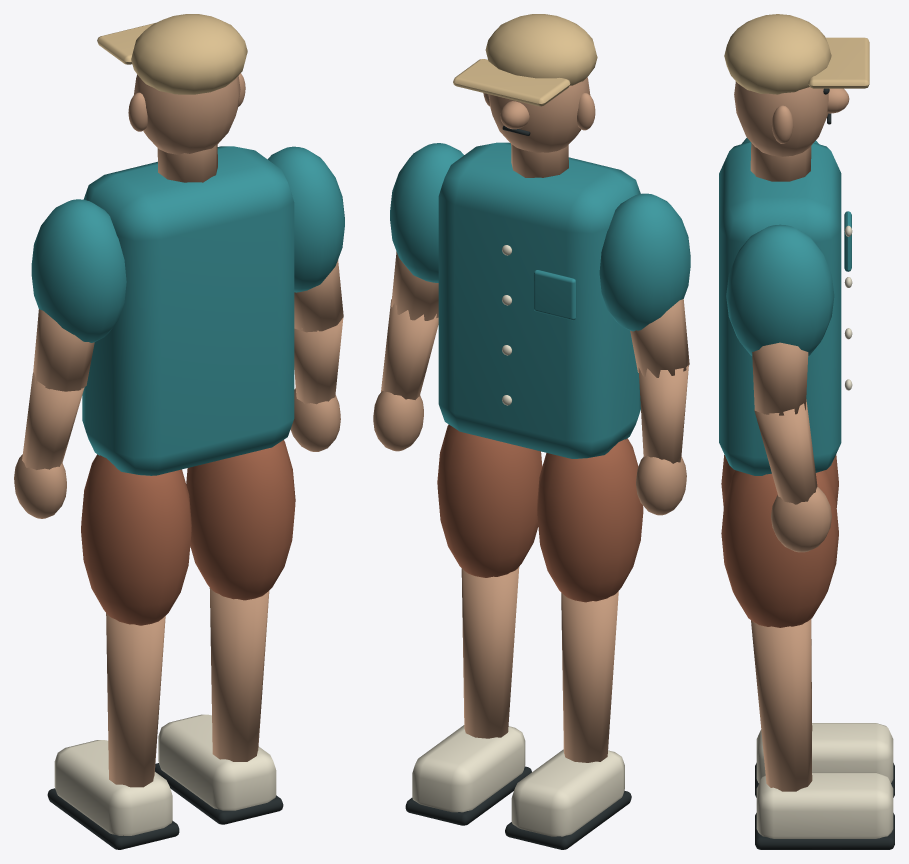
Rendered from pacific-visitor.glb.
The picture shows the model from 3 angles, left to right: view 1: azimuth 30°, elevation 25°; view 2: azimuth 150°, elevation 25°; view 3: azimuth 270°, elevation 25°; orthographic projection. The views are drawn at different scales.
Visible parts, largest first — view 1: LifeRoot_Visitor coastal linen, LegFrontL_Visitor rust shorts, LegFrontR_Visitor rust shorts, ArmL_Visitor coastal linen, LegFrontL_Visitor skin, LegFrontR_Visitor skin, Head_Visitor straw cap, LegFrontR_Visitor cream footwear, LegFrontL_Visitor cream footwear, ArmR_Visitor coastal linen, ForearmL_Visitor skin, Head_Visitor skin (+6 smaller); view 2: LifeRoot_Visitor coastal linen, LegFrontL_Visitor rust shorts, LegFrontR_Visitor rust shorts, ArmL_Visitor coastal linen, Head_Visitor straw cap, LegFrontL_Visitor skin, LegFrontR_Visitor skin, LegFrontR_Visitor cream footwear, LegFrontL_Visitor cream footwear, ForearmL_Visitor skin, ForearmR_Visitor skin, ArmR_Visitor coastal linen (+6 smaller); view 3: LifeRoot_Visitor coastal linen, LegFrontR_Visitor rust shorts, ArmR_Visitor coastal linen, Head_Visitor straw cap, LegFrontR_Visitor skin, LegFrontR_Visitor cream footwear, ForearmR_Visitor skin, Head_Visitor skin, LegFrontL_Visitor cream footwear, ArmR_Visitor skin, LegFrontR_Visitor dark trim, LifeRoot_Visitor skin (+1 smaller).
Boxes of the visible parts, x1,y1,x2,y2 form: LifeRoot_Visitor coastal linen: (82,146,294,475); LegFrontL_Visitor rust shorts: (81,454,191,625); LegFrontR_Visitor rust shorts: (186,440,295,600); ArmL_Visitor coastal linen: (31,199,126,342); LegFrontL_Visitor skin: (106,613,165,787); LegFrontR_Visitor skin: (209,587,269,761); Head_Visitor straw cap: (97,14,247,94); LegFrontR_Visitor cream footwear: (158,714,276,810); LegFrontL_Visitor cream footwear: (54,740,172,835); ArmR_Visitor coastal linen: (267,146,344,292); ForearmL_Visitor skin: (14,372,84,518); Head_Visitor skin: (128,73,245,154); LifeRoot_Visitor coastal linen: (438,142,640,458); LegFrontL_Visitor rust shorts: (537,438,643,602); LegFrontR_Visitor rust shorts: (437,424,542,577); ArmL_Visitor coastal linen: (599,193,690,331); Head_Visitor straw cap: (453,14,597,106); LegFrontL_Visitor skin: (561,591,618,762); LegFrontR_Visitor skin: (461,567,519,738); LegFrontR_Visitor cream footwear: (412,725,525,812); LegFrontL_Visitor cream footwear: (511,749,624,836); ForearmL_Visitor skin: (636,365,688,515); ForearmR_Visitor skin: (373,299,438,451); ArmR_Visitor coastal linen: (390,143,463,282); LifeRoot_Visitor coastal linen: (719,141,851,475); LegFrontR_Visitor rust shorts: (721,470,838,627); ArmR_Visitor coastal linen: (726,224,834,355); Head_Visitor straw cap: (724,14,869,94); LegFrontR_Visitor skin: (751,619,812,791); LegFrontR_Visitor cream footwear: (756,772,893,838); ForearmR_Visitor skin: (754,399,831,552); Head_Visitor skin: (734,81,849,156); LegFrontL_Visitor cream footwear: (756,723,893,782); ArmR_Visitor skin: (752,342,808,415); LegFrontR_Visitor dark trim: (755,813,894,849); LifeRoot_Visitor skin: (750,143,811,181).
Size of the model in its own units: 0.766 by 1.85 by 0.3735.
